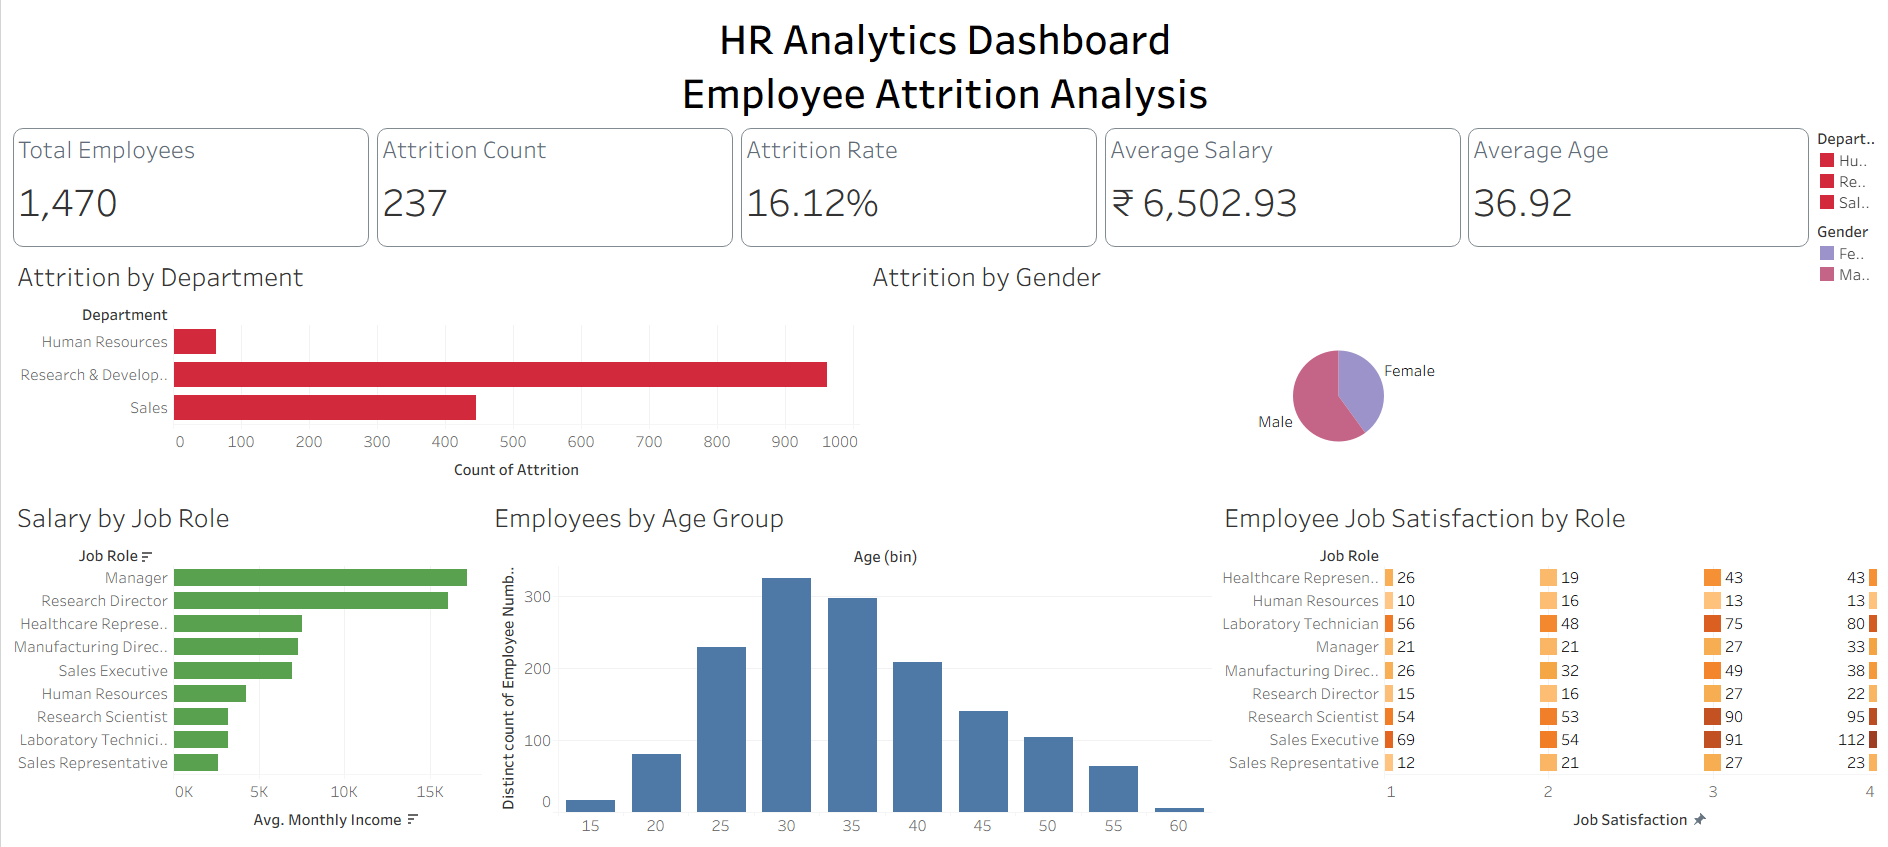

The page's visual inventory and layout, read from the dashboard file:
{"tool":"tableau","page":{"name":"Dashboard 1","canvas":[1000,1000],"units":"permille","ordinal":0},"visuals":[{"type":"title","box":[4.8,9.4,990.3,138.7]},{"type":"worksheet","title":"Total Employees","mark":"Automatic","box":[4.8,148.1,191.5,149.7]},{"type":"worksheet","title":"Attrition Count","mark":"Automatic","box":[196.3,148.1,191.5,149.7]},{"type":"worksheet","title":"Attrition Rate","mark":"Automatic","box":[387.8,148.1,191.5,149.7]},{"type":"worksheet","title":"Average Salary","mark":"Automatic","box":[579.2,148.1,191.5,149.7]},{"type":"worksheet","title":"Average Age","mark":"Automatic","box":[770.7,148.1,183.4,149.7]},{"type":"legend","title":"Attrition by Department","param":"[federated.1e7mk2f0moqttf19k0m5m1ixtfey].[none:Department:nk]","box":[954.1,148.1,41,109.3]},{"type":"legend","title":"Attrition by Gender","param":"[federated.1e7mk2f0moqttf19k0m5m1ixtfey].[none:Gender:nk]","box":[954.1,257.3,41,84.6]},{"type":"worksheet","title":"Attrition by Department","mark":"Automatic","rows":["Department"],"cols":["Attrition"],"box":[4.8,297.7,376.6,282.2]},{"type":"worksheet","title":"Attrition by Gender","mark":"Pie","box":[381.4,297.7,572.7,282.2]},{"type":"worksheet","title":"Salary by Job Role","mark":"Automatic","rows":["JobRole"],"cols":["MonthlyIncome"],"box":[4.8,579.9,287.9,410.7]},{"type":"worksheet","title":"Employees by Age Group","mark":"Automatic","rows":["EmployeeNumber"],"cols":["Age (bin)"],"box":[292.7,579.9,350.5,410.7]},{"type":"worksheet","title":"Job Satisfaction Analysis","mark":"Square","rows":["JobRole"],"cols":["JobSatisfaction"],"box":[643.3,579.9,351.8,410.7]}]}

Visuals, with their boxes on the dashboard's canvas, which has no fixed pixel size, in thousandths of its width and height (x1, y1, x2, y2). These are canvas units, not pixel positions in the 1888x847 screenshot, which may show the page scaled, cropped or inside an application window:
title: x1=5 y1=9 x2=995 y2=148
"Total Employees" worksheet: x1=5 y1=148 x2=196 y2=298
"Attrition Count" worksheet: x1=196 y1=148 x2=388 y2=298
"Attrition Rate" worksheet: x1=388 y1=148 x2=579 y2=298
"Average Salary" worksheet: x1=579 y1=148 x2=771 y2=298
"Average Age" worksheet: x1=771 y1=148 x2=954 y2=298
"Attrition by Department" legend: x1=954 y1=148 x2=995 y2=257
"Attrition by Gender" legend: x1=954 y1=257 x2=995 y2=342
"Attrition by Department" worksheet: x1=5 y1=298 x2=381 y2=580
"Attrition by Gender" worksheet (Pie marks): x1=381 y1=298 x2=954 y2=580
"Salary by Job Role" worksheet: x1=5 y1=580 x2=293 y2=991
"Employees by Age Group" worksheet: x1=293 y1=580 x2=643 y2=991
"Job Satisfaction Analysis" worksheet (Square marks): x1=643 y1=580 x2=995 y2=991
